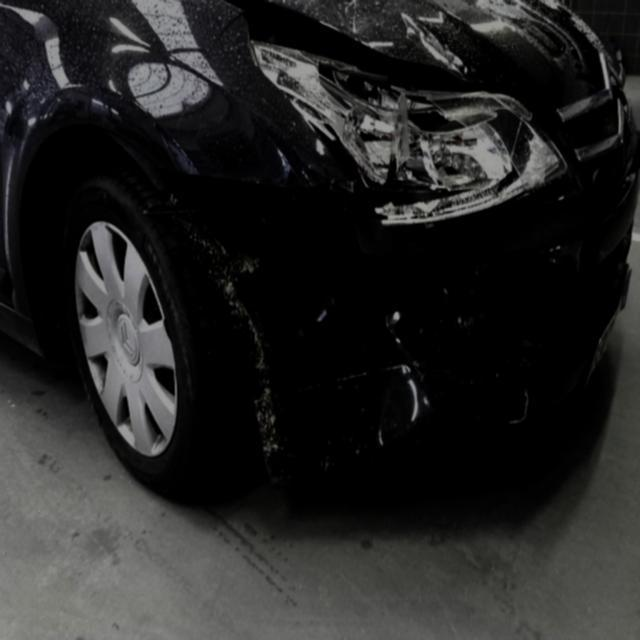minor: (156, 0, 492, 482)
